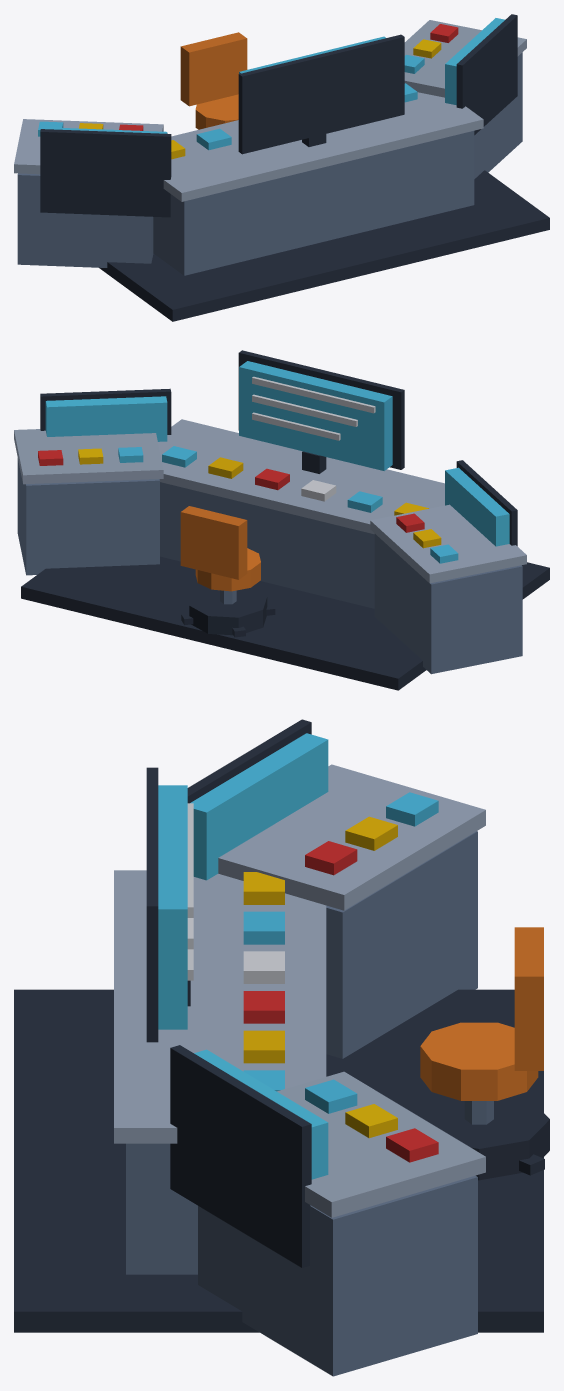
Rendered from Decor_MechaHangar_Console.fbx.
The picture shows the model from 3 angles, top to bottom: view 1: azimuth 30°, elevation 25°; view 2: azimuth 150°, elevation 25°; view 3: azimuth 270°, elevation 25°; orthographic projection. The views are drawn at different scales.
Parts seen in each view (by area): view 1: Console_Body; view 2: Console_Body; view 3: Console_Body.
Part boxes in pixels (x1,y1,x2,y2): Console_Body: (14,14,549,321); Console_Body: (14,350,549,690); Console_Body: (14,719,549,1376).
Size of the model in its own units: 17.4 by 6.2 by 9.
